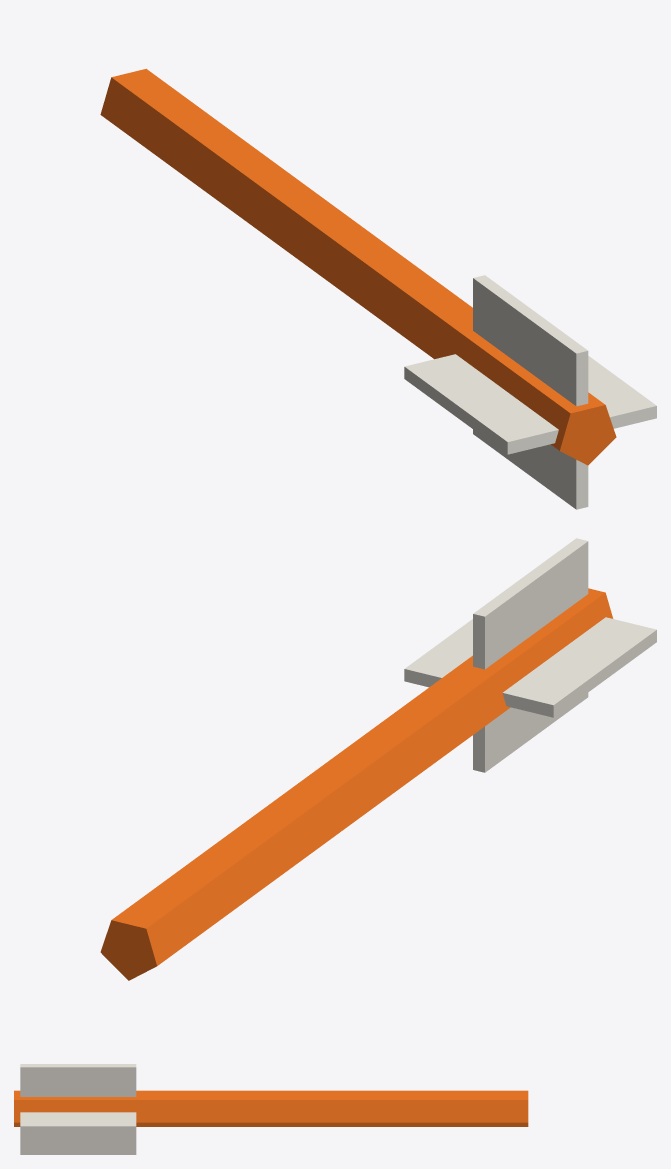
Rendered from PR_Arrow.fbx.
The picture shows the model from 3 angles, top to bottom: view 1: azimuth 30°, elevation 25°; view 2: azimuth 150°, elevation 25°; view 3: azimuth 270°, elevation 25°; orthographic projection. The views are drawn at different scales.
Parts seen in each view (by area): view 1: PR_Arrow; view 2: PR_Arrow; view 3: PR_Arrow.
Part boxes in pixels (<box>): PR_Arrow: <box>100,68,656,509</box>; PR_Arrow: <box>100,538,656,980</box>; PR_Arrow: <box>14,1064,528,1154</box>.
Size of the model in its own units: 0.15 by 1 by 0.15.
